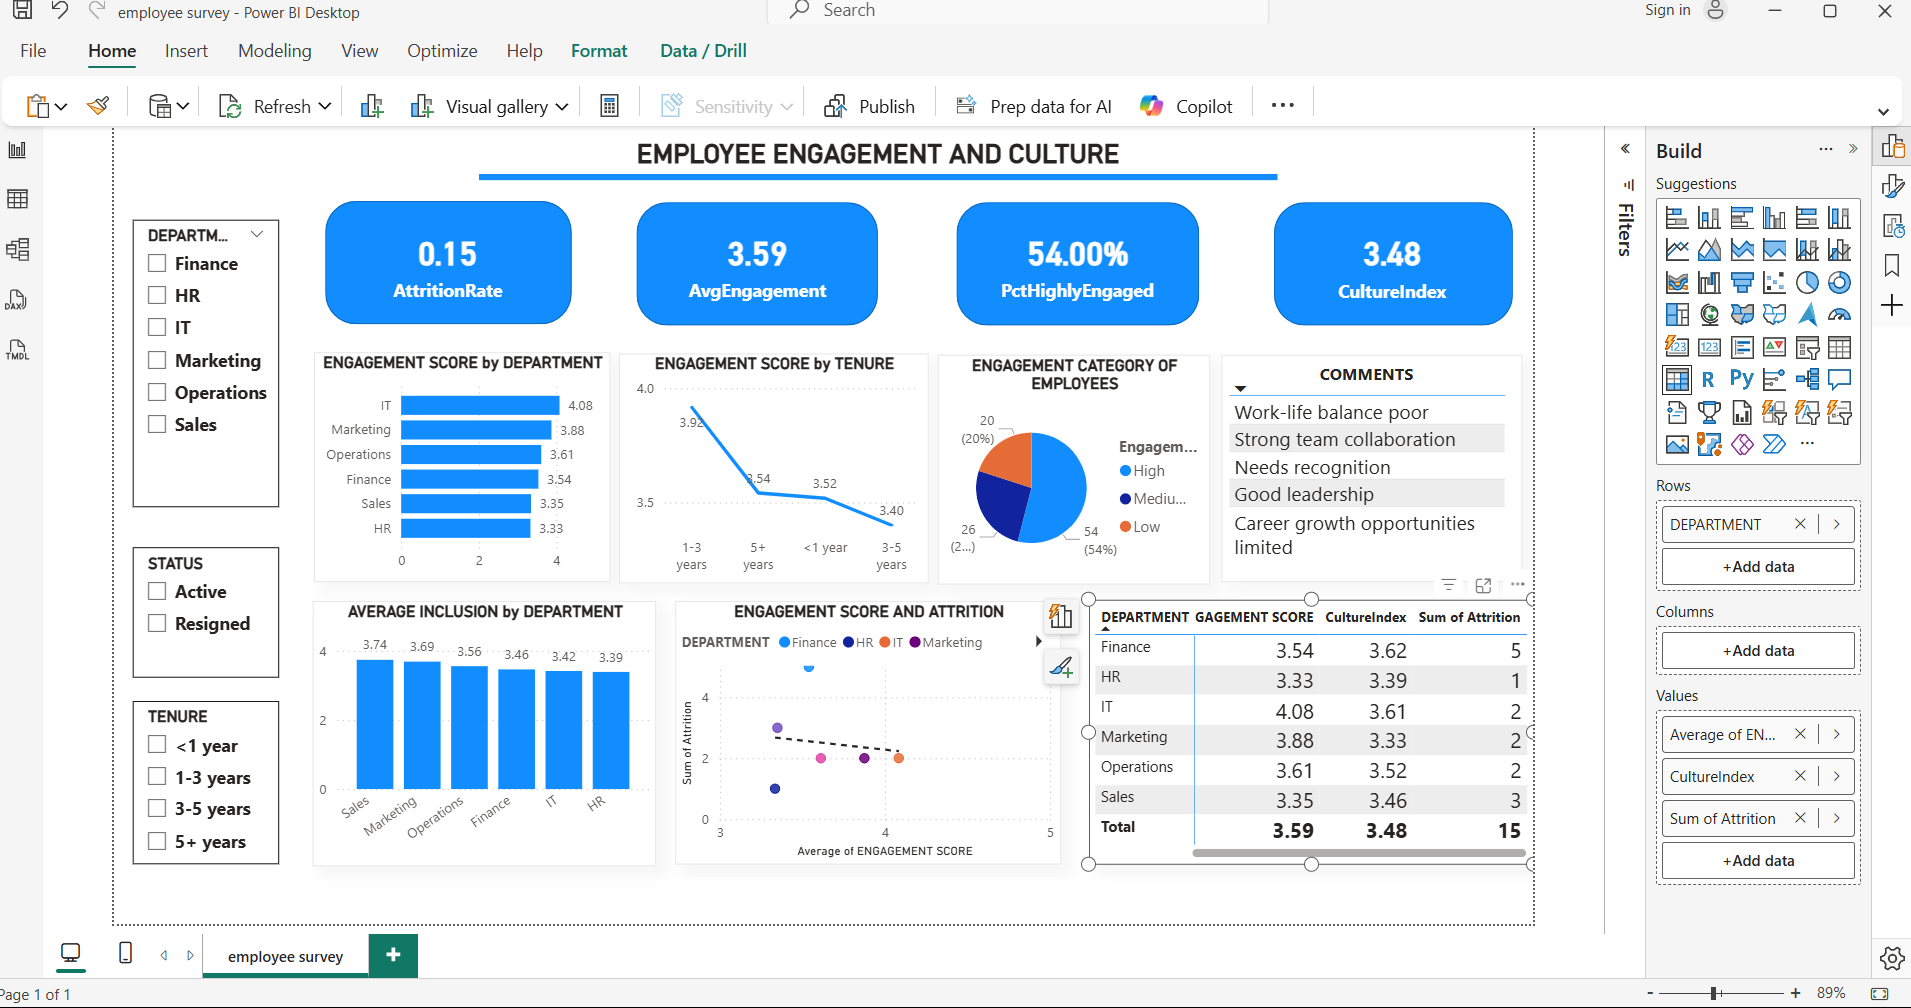

The dashboard page shown, as its layout file describes it:
{"tool":"powerbi","page":{"name":"employee survey","canvas":[1280,720],"ordinal":0},"visuals":[{"type":"shape","box":[1045.6,68.9,215.6,111.1],"z":0},{"type":"shape","box":[760,68.9,218.9,111.1],"z":1000},{"type":"shape","box":[190,67.8,222.2,111.1],"z":2000},{"type":"shape","box":[471.1,68.9,217.8,111.1],"z":3000},{"type":"card","fields":{"Values":["engagement overview.AttritionRate"]},"box":[241.1,84.4,120,78.9],"z":4000},{"type":"card","fields":{"Values":["engagement overview.AvgEngagement"]},"box":[497.8,84.4,164.4,78.9],"z":5000},{"type":"card","fields":{"Values":["engagement overview.PctHighlyEngaged"]},"box":[785.6,84.4,166.7,78.9],"z":6000},{"type":"card","fields":{"Values":["culture insight.CultureIndex"]},"box":[1091.1,85.6,123.3,77.8],"z":7000},{"type":"barChart","title":"ENGAGEMENT SCORE by DEPARTMENT","fields":{"Category":["employee survey.DEPARTMENT"],"Y":["Avg(employee survey.ENGAGEMENT SCORE)"]},"box":[180,204.3,267.1,207.1],"z":8000},{"type":"lineChart","title":" ENGAGEMENT SCORE by TENURE","fields":{"Category":["employee survey.TENURE"],"Y":["Avg(employee survey.ENGAGEMENT SCORE)"]},"box":[455.4,204.9,279.3,207.3],"z":9000},{"type":"pieChart","title":"ENGAGEMENT CATEGORY OF EMPLOYEES","fields":{"Series":["employee survey.EngagementCategory"],"Category":["employee survey.EngagementCategory"],"Y":["CountNonNull(employee survey.EMPLOYEE ID)"]},"box":[743.1,206.1,245.7,207.3],"z":10000},{"type":"tableEx","fields":{"Values":["employee survey.COMMENTS"]},"box":[998.4,206.1,270.9,204.9],"z":11000},{"type":"columnChart","title":"AVERAGE INCLUSION by DEPARTMENT","fields":{"Category":["employee survey.DEPARTMENT"],"Y":["Avg(employee survey.INCLUSION)"]},"box":[179.2,428.3,310,238.9],"z":12000},{"type":"slicer","fields":{"Values":["employee survey.DEPARTMENT"]},"box":[16.8,85.1,131.8,258.9],"z":13000},{"type":"slicer","fields":{"Values":["employee survey.TENURE"]},"box":[16.8,519,131.8,147.4],"z":14000},{"type":"slicer","fields":{"Values":["employee survey.STATUS"]},"box":[16.8,379.9,131.8,117.5],"z":15000},{"type":"scatterChart","title":"ENGAGEMENT SCORE AND ATTRITION","fields":{"X":["Avg(employee survey.ENGAGEMENT SCORE)"],"Y":["Sum(employee survey.Attrition)"],"Series":["employee survey.DEPARTMENT"]},"box":[506.1,428.3,348.3,237.8],"z":16000},{"type":"pivotTable","fields":{"Rows":["employee survey.DEPARTMENT"],"Values":["Avg(employee survey.ENGAGEMENT SCORE)","culture insight.CultureIndex","Sum(employee survey.Attrition)"]},"box":[879.2,427.2,401.3,238.9],"z":17000},{"type":"shape","title":"EMPLOYEE ENGAGEMENT AND CULTURE","box":[328.9,11.1,720,37.8],"z":18000}]}

Visuals, with their boxes on the page's 1280x720 design canvas (x1, y1, x2, y2). These are canvas units, not pixel positions in the 1911x1008 screenshot, which may show the page scaled, cropped or inside an application window:
shape: BBox(1046, 69, 1261, 180)
shape: BBox(760, 69, 979, 180)
shape: BBox(190, 68, 412, 179)
shape: BBox(471, 69, 689, 180)
card - engagement overview.AttritionRate: BBox(241, 84, 361, 163)
card - engagement overview.AvgEngagement: BBox(498, 84, 662, 163)
card - engagement overview.PctHighlyEngaged: BBox(786, 84, 952, 163)
card - culture insight.CultureIndex: BBox(1091, 86, 1214, 163)
"ENGAGEMENT SCORE by DEPARTMENT" barChart: BBox(180, 204, 447, 411)
" ENGAGEMENT SCORE by TENURE" lineChart: BBox(455, 205, 735, 412)
"ENGAGEMENT CATEGORY OF EMPLOYEES" pieChart: BBox(743, 206, 989, 413)
tableEx - employee survey.COMMENTS: BBox(998, 206, 1269, 411)
"AVERAGE INCLUSION by DEPARTMENT" columnChart: BBox(179, 428, 489, 667)
slicer - employee survey.DEPARTMENT: BBox(17, 85, 149, 344)
slicer - employee survey.TENURE: BBox(17, 519, 149, 666)
slicer - employee survey.STATUS: BBox(17, 380, 149, 497)
"ENGAGEMENT SCORE AND ATTRITION" scatterChart: BBox(506, 428, 854, 666)
pivotTable - employee survey.DEPARTMENT x Avg(employee survey.ENGAGEMENT SCORE): BBox(879, 427, 1280, 666)
"EMPLOYEE ENGAGEMENT AND CULTURE" shape: BBox(329, 11, 1049, 49)
